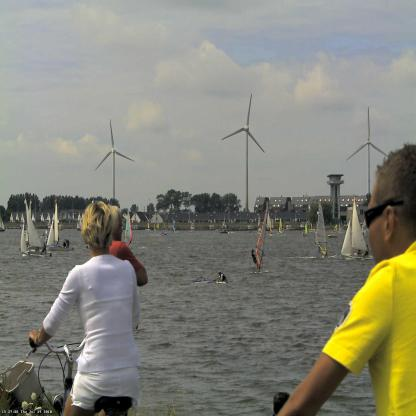other: (340, 252, 410, 408), (112, 236, 141, 272)
